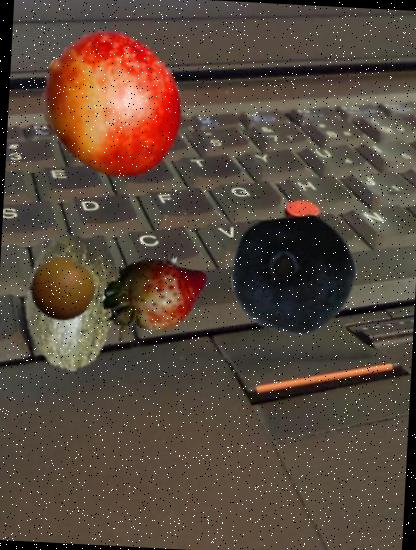Blueberry: (228, 210, 361, 343)
Melon: (7, 230, 151, 374)
Nectarine: (35, 25, 193, 183)
Orange: (43, 49, 152, 158), (28, 254, 96, 323)
Strawberry: (101, 245, 206, 350)
